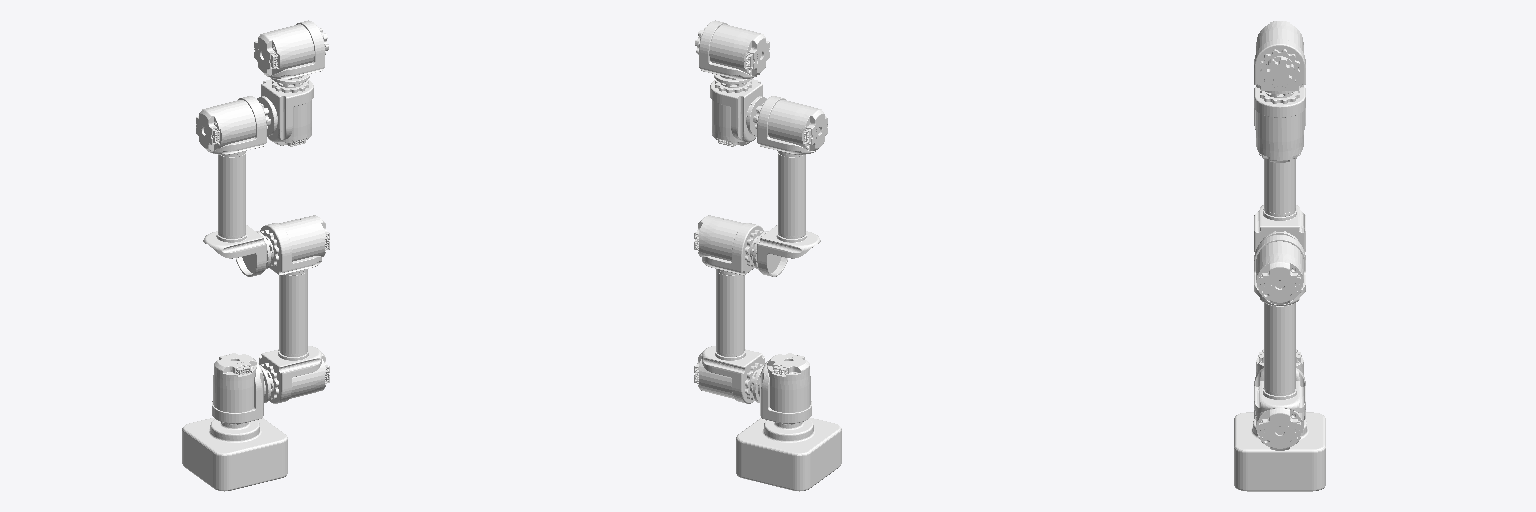
The robot description file, URDF, robot "gluon":
<?xml version="1.0" encoding="utf-8"?>
<!-- This URDF was automatically created by SolidWorks to URDF Exporter! Originally created by [author] ([email redacted]) 
     Commit Version: 1.5.1-0-g916b5db  Build Version: 1.5.7152.31018
     For more information, please see http://wiki.ros.org/sw_urdf_exporter -->
<robot
  name="gluon">
  <link
    name="dummy">
  </link>
  <link
    name="base_link">
    <inertial>
      <origin
        xyz="4.33680868994202E-18 -6.00214600243731E-11 0.0271404483614374"
        rpy="0 0 0" />
      <mass
        value="0.524001417146026" />
      <inertia
        ixx="0.000535467082580035"
        ixy="-5.8056109802237E-10"
        ixz="3.22416889484249E-20"
        iyy="0.000535467122847014"
        iyz="-1.91837356854663E-11"
        izz="0.000799852045598815" />
    </inertial>
    <visual>
      <origin
        xyz="0 0 0"
        rpy="0 0 0" />
      <geometry>
        <mesh
          filename="./dae_meshes/base_link.dae" />
      </geometry>
      <material
        name="">
        <color
          rgba="1 1 1 1" />
      </material>
    </visual>
  </link>
  <link
    name="1_Link">
    <inertial>
      <origin
        xyz="0.00464247258603146 -3.55800695980568E-05 -0.000556506974114818"
        rpy="0 0 0" />
      <mass
        value="0.166259789544396" />
      <inertia
        ixx="6.76518298922659E-05"
        ixy="-1.5556489245956E-08"
        ixz="-8.15879264327807E-06"
        iyy="6.70385565720365E-05"
        iyz="4.11369338798553E-08"
        izz="6.03698353342124E-05" />
    </inertial>
    <visual>
      <origin
        xyz="0 0 0"
        rpy="0 0 0" />
      <geometry>
        <mesh
          filename="./dae_meshes/1_Link.dae" />
      </geometry>
      <material
        name="">
        <color
          rgba="1 1 1 1" />
      </material>
    </visual>
  </link>
  <link
    name="2_Link">
    <inertial>
      <origin
        xyz="-0.00354399449686532 6.83167072432211E-06 0.0535596075762168"
        rpy="0 0 0" />
      <mass
        value="0.316094041078938" />
      <inertia
        ixx="0.000174638310500152"
        ixy="-4.1835416811351E-08"
        ixz="-2.08841744154906E-07"
        iyy="0.000184936237600061"
        iyz="1.60668786323061E-08"
        izz="0.000107780595065675" />
    </inertial>
    <visual>
      <origin
        xyz="0 0 0"
        rpy="0 0 0" />
      <geometry>
        <mesh
          filename="./dae_meshes/2_Link.dae" />
      </geometry>
      <material
        name="">
        <color
          rgba="1 1 1 1" />
      </material>
    </visual>
  </link>
  <link
    name="3_Link">
    <inertial>
      <origin
        xyz="-0.046552753550141 -6.68259662081616E-06 0.0523242797053055"
        rpy="0 0 0" />
      <mass
        value="0.323135746651779" />
      <inertia
        ixx="0.000176611314431077"
        ixy="4.18325643591624E-08"
        ixz="2.08841259569185E-07"
        iyy="0.000185932099122903"
        iyz="1.40317731158265E-08"
        izz="0.000108776454638344" />
    </inertial>
    <visual>
      <origin
        xyz="0 0 0"
        rpy="0 0 0" />
      <geometry>
        <mesh
          filename="./dae_meshes/3_Link.dae" />
      </geometry>
      <material
        name="">
        <color
          rgba="1 1 1 1" />
      </material>
    </visual>
  </link>
  <link
    name="4_Link">
    <inertial>
      <origin
        xyz="0.0182269184920331 1.24412678982888E-05 0.00395855146065832"
        rpy="0 0 0" />
      <mass
        value="0.174947986817189" />
      <inertia
        ixx="6.61039276820243E-05"
        ixy="4.2340099438174E-08"
        ixz="-8.15879264340351E-06"
        iyy="6.76311730651952E-05"
        iyz="-1.4353323683088E-08"
        izz="6.34296690009448E-05" />
    </inertial>
    <visual>
      <origin
        xyz="0 0 0"
        rpy="0 0 0" />
      <geometry>
        <mesh
          filename="./dae_meshes/4_Link.dae" />
      </geometry>
      <material
        name="">
        <color
          rgba="1 1 1 1" />
      </material>
    </visual>
  </link>
  <link
    name="5_Link">
    <inertial>
      <origin
        xyz="0.00395855202736296 -3.51379306736399E-05 0.0182025903111476"
        rpy="0 0 0" />
      <mass
        value="0.174947985033356" />
      <inertia
        ixx="6.34296685392068E-05"
        ixy="1.43441999593359E-08"
        ixz="-8.15879467982627E-06"
        iyy="6.76311733496419E-05"
        iyz="-4.23418981680198E-08"
        izz="6.61039240611986E-05" />
    </inertial>
    <visual>
      <origin
        xyz="0 0 0"
        rpy="0 0 0" />
      <geometry>
        <mesh
          filename="./dae_meshes/5_Link.dae" />
      </geometry>
      <material
        name="">
        <color
          rgba="1 1 1 1" />
      </material>
    </visual>
  </link>
  <link
    name="6_Link">
    <inertial>
      <origin
        xyz="-0.00231632591813243 4.03819823737578E-05 -5.08515816782795E-05"
        rpy="0 0 0" />
      <mass
        value="0.122091979083374" />
      <inertia
        ixx="3.76561532469651E-05"
        ixy="4.18325643595058E-08"
        ixz="-2.08841259371089E-07"
        iyy="4.00422747874576E-05"
        iyz="-1.50489542382975E-08"
        izz="3.97966719504564E-05" />
    </inertial>
    <visual>
      <origin
        xyz="0 0 0"
        rpy="0 0 0" />
      <geometry>
        <mesh
          filename="./dae_meshes/6_Link.dae" />
      </geometry>
      <material
        name="">
        <color
          rgba="1 1 1 1" />
      </material>
    </visual>
  </link>
  <joint
    name="dummy_joint"
    type="fixed">
    <origin
        xyz="0 0 0"
        rpy="0 0 0" />
    <parent
        link="dummy" />
    <child
        link="base_link" />
  </joint>
  <joint
    name="axis_joint_1"
    type="revolute">
    <origin
      xyz="-2.4327E-05 2.2695E-05 0.105"
      rpy="0 0 0" />
    <parent
      link="base_link" />
    <child
      link="1_Link" />
    <axis
      xyz="0 0 -1" />
    <limit
      lower="-2.79"
      upper="2.79"
      effort="30"
      velocity="3.14" />
  </joint>
  <joint
    name="axis_joint_2"
    type="revolute">
    <origin
      xyz="0.080113 -2.2695E-05 0"
      rpy="0 0 0" />
    <parent
      link="1_Link" />
    <child
      link="2_Link" />
    <axis
      xyz="-1 0 0" />
    <limit
      lower="-1.54"
      upper="1.54"
      effort="30"
      velocity="3.14" />
  </joint>
  <joint
    name="axis_joint_3"
    type="revolute">
    <origin
      xyz="0 0 0.17447"
      rpy="0 0 0" />
    <parent
      link="2_Link" />
    <child
      link="3_Link" />
    <axis
      xyz="1 0 0" />
    <limit
      lower="-2.79"
      upper="2.79"
      effort="30"
      velocity="3.14" />
  </joint>
  <joint
    name="axis_joint_4"
    type="revolute">
    <origin
      xyz="-0.084516 0 0.17442"
      rpy="0 0 0" />
    <parent
      link="3_Link" />
    <child
      link="4_Link" />
    <axis
      xyz="-1 0 0" />
    <limit
      lower="-2.79"
      upper="2.79"
      effort="30"
      velocity="3.14" />
  </joint>
  <joint
    name="axis_joint_5"
    type="revolute">
    <origin
      xyz="0.080113 2.2695E-05 0"
      rpy="0 0 0" />
    <parent
      link="4_Link" />
    <child
      link="5_Link" />
    <axis
      xyz="0 0 1" />
    <limit
      lower="-2.79"
      upper="2.79"
      effort="30"
      velocity="3.14" />
  </joint>
  <joint
    name="axis_joint_6"
    type="revolute">
    <origin
      xyz="0 -4.5391E-05 0.080089"
      rpy="0 0 0" />
    <parent
      link="5_Link" />
    <child
      link="6_Link" />
    <axis
      xyz="-1 0 0" />
    <limit
      lower="-2.79"
      upper="2.79"
      effort="30"
      velocity="3.14" />
  </joint>
</robot>

--- What the picture shows (computed from the rendered views, not written in the file) ---
Views: 3 orthographic renders of the robot side by side, from view 1: azimuth 30°, elevation 25°; view 2: azimuth 150°, elevation 25°; view 3: azimuth 270°, elevation 25°.
Model gluon with 8 links and 7 joints (6 revolute, 1 fixed), rooted at dummy, posed every joint at zero.
Links seen in each view (by area): view 1: 3_Link, 2_Link, base_link, 4_Link, 1_Link, 6_Link, 5_Link; view 2: 3_Link, 2_Link, base_link, 4_Link, 1_Link, 6_Link, 5_Link; view 3: 2_Link, 3_Link, base_link, 5_Link, 6_Link, 4_Link, 1_Link.
Boxes of the visible links, x1,y1,x2,y2 form: 3_Link: (203, 96, 329, 276); 2_Link: (259, 223, 329, 403); base_link: (182, 418, 287, 491); 4_Link: (196, 79, 313, 150); 1_Link: (212, 353, 270, 424); 6_Link: (254, 24, 328, 75); 5_Link: (264, 20, 325, 146); 3_Link: (694, 96, 820, 276); 2_Link: (694, 223, 764, 403); base_link: (736, 418, 841, 491); 4_Link: (710, 79, 827, 150); 1_Link: (753, 353, 811, 424); 6_Link: (695, 24, 769, 75); 5_Link: (698, 20, 759, 146); 2_Link: (1254, 235, 1305, 450); 3_Link: (1254, 86, 1305, 304); base_link: (1234, 412, 1325, 491); 5_Link: (1254, 39, 1305, 162); 6_Link: (1256, 21, 1303, 85); 4_Link: (1254, 85, 1305, 129); 1_Link: (1254, 349, 1305, 419).
Bounding box of the posed robot: 0.17 × 0.1 × 0.5618 m (x, y, z).
7 mesh visuals loaded from 7 distinct referenced files (7 Collada DAE).